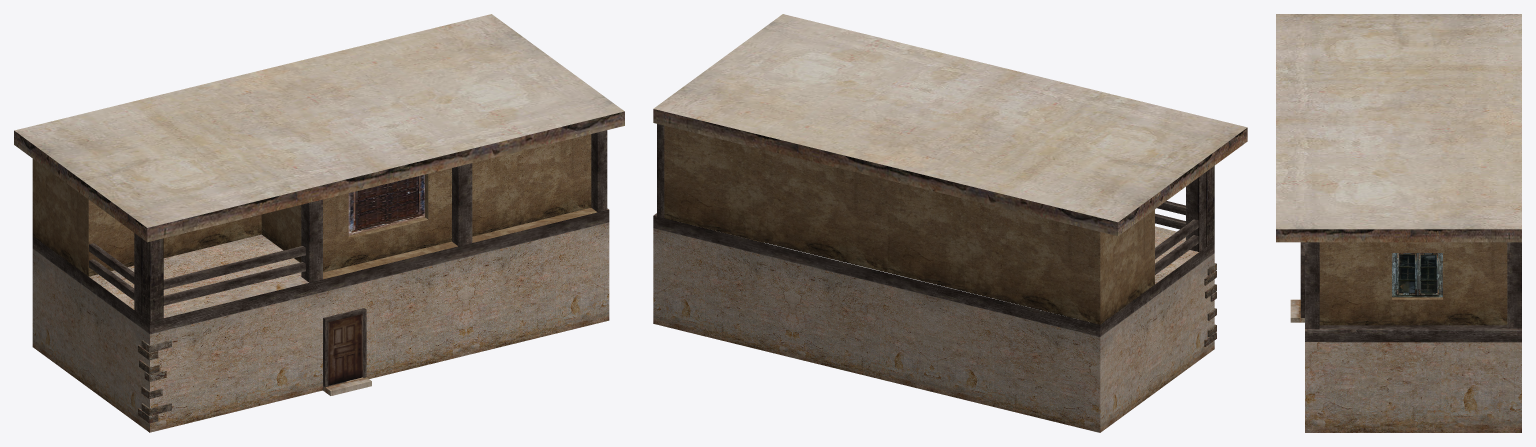
File: BuildingM.fbx
3 views of the same model, side by side, from view 1: azimuth 30°, elevation 25°; view 2: azimuth 150°, elevation 25°; view 3: azimuth 270°, elevation 25° (orthographic). The views are drawn at different scales.
Visible parts, largest first — view 1: BuildingM; view 2: BuildingM; view 3: BuildingM.
Part boxes in pixels (bbox=[...]): BuildingM: bbox=[14, 14, 624, 432]; BuildingM: bbox=[653, 14, 1247, 432]; BuildingM: bbox=[1276, 14, 1521, 432].
Bounding box in the file's own units: 2122 × 938 × 1025.
